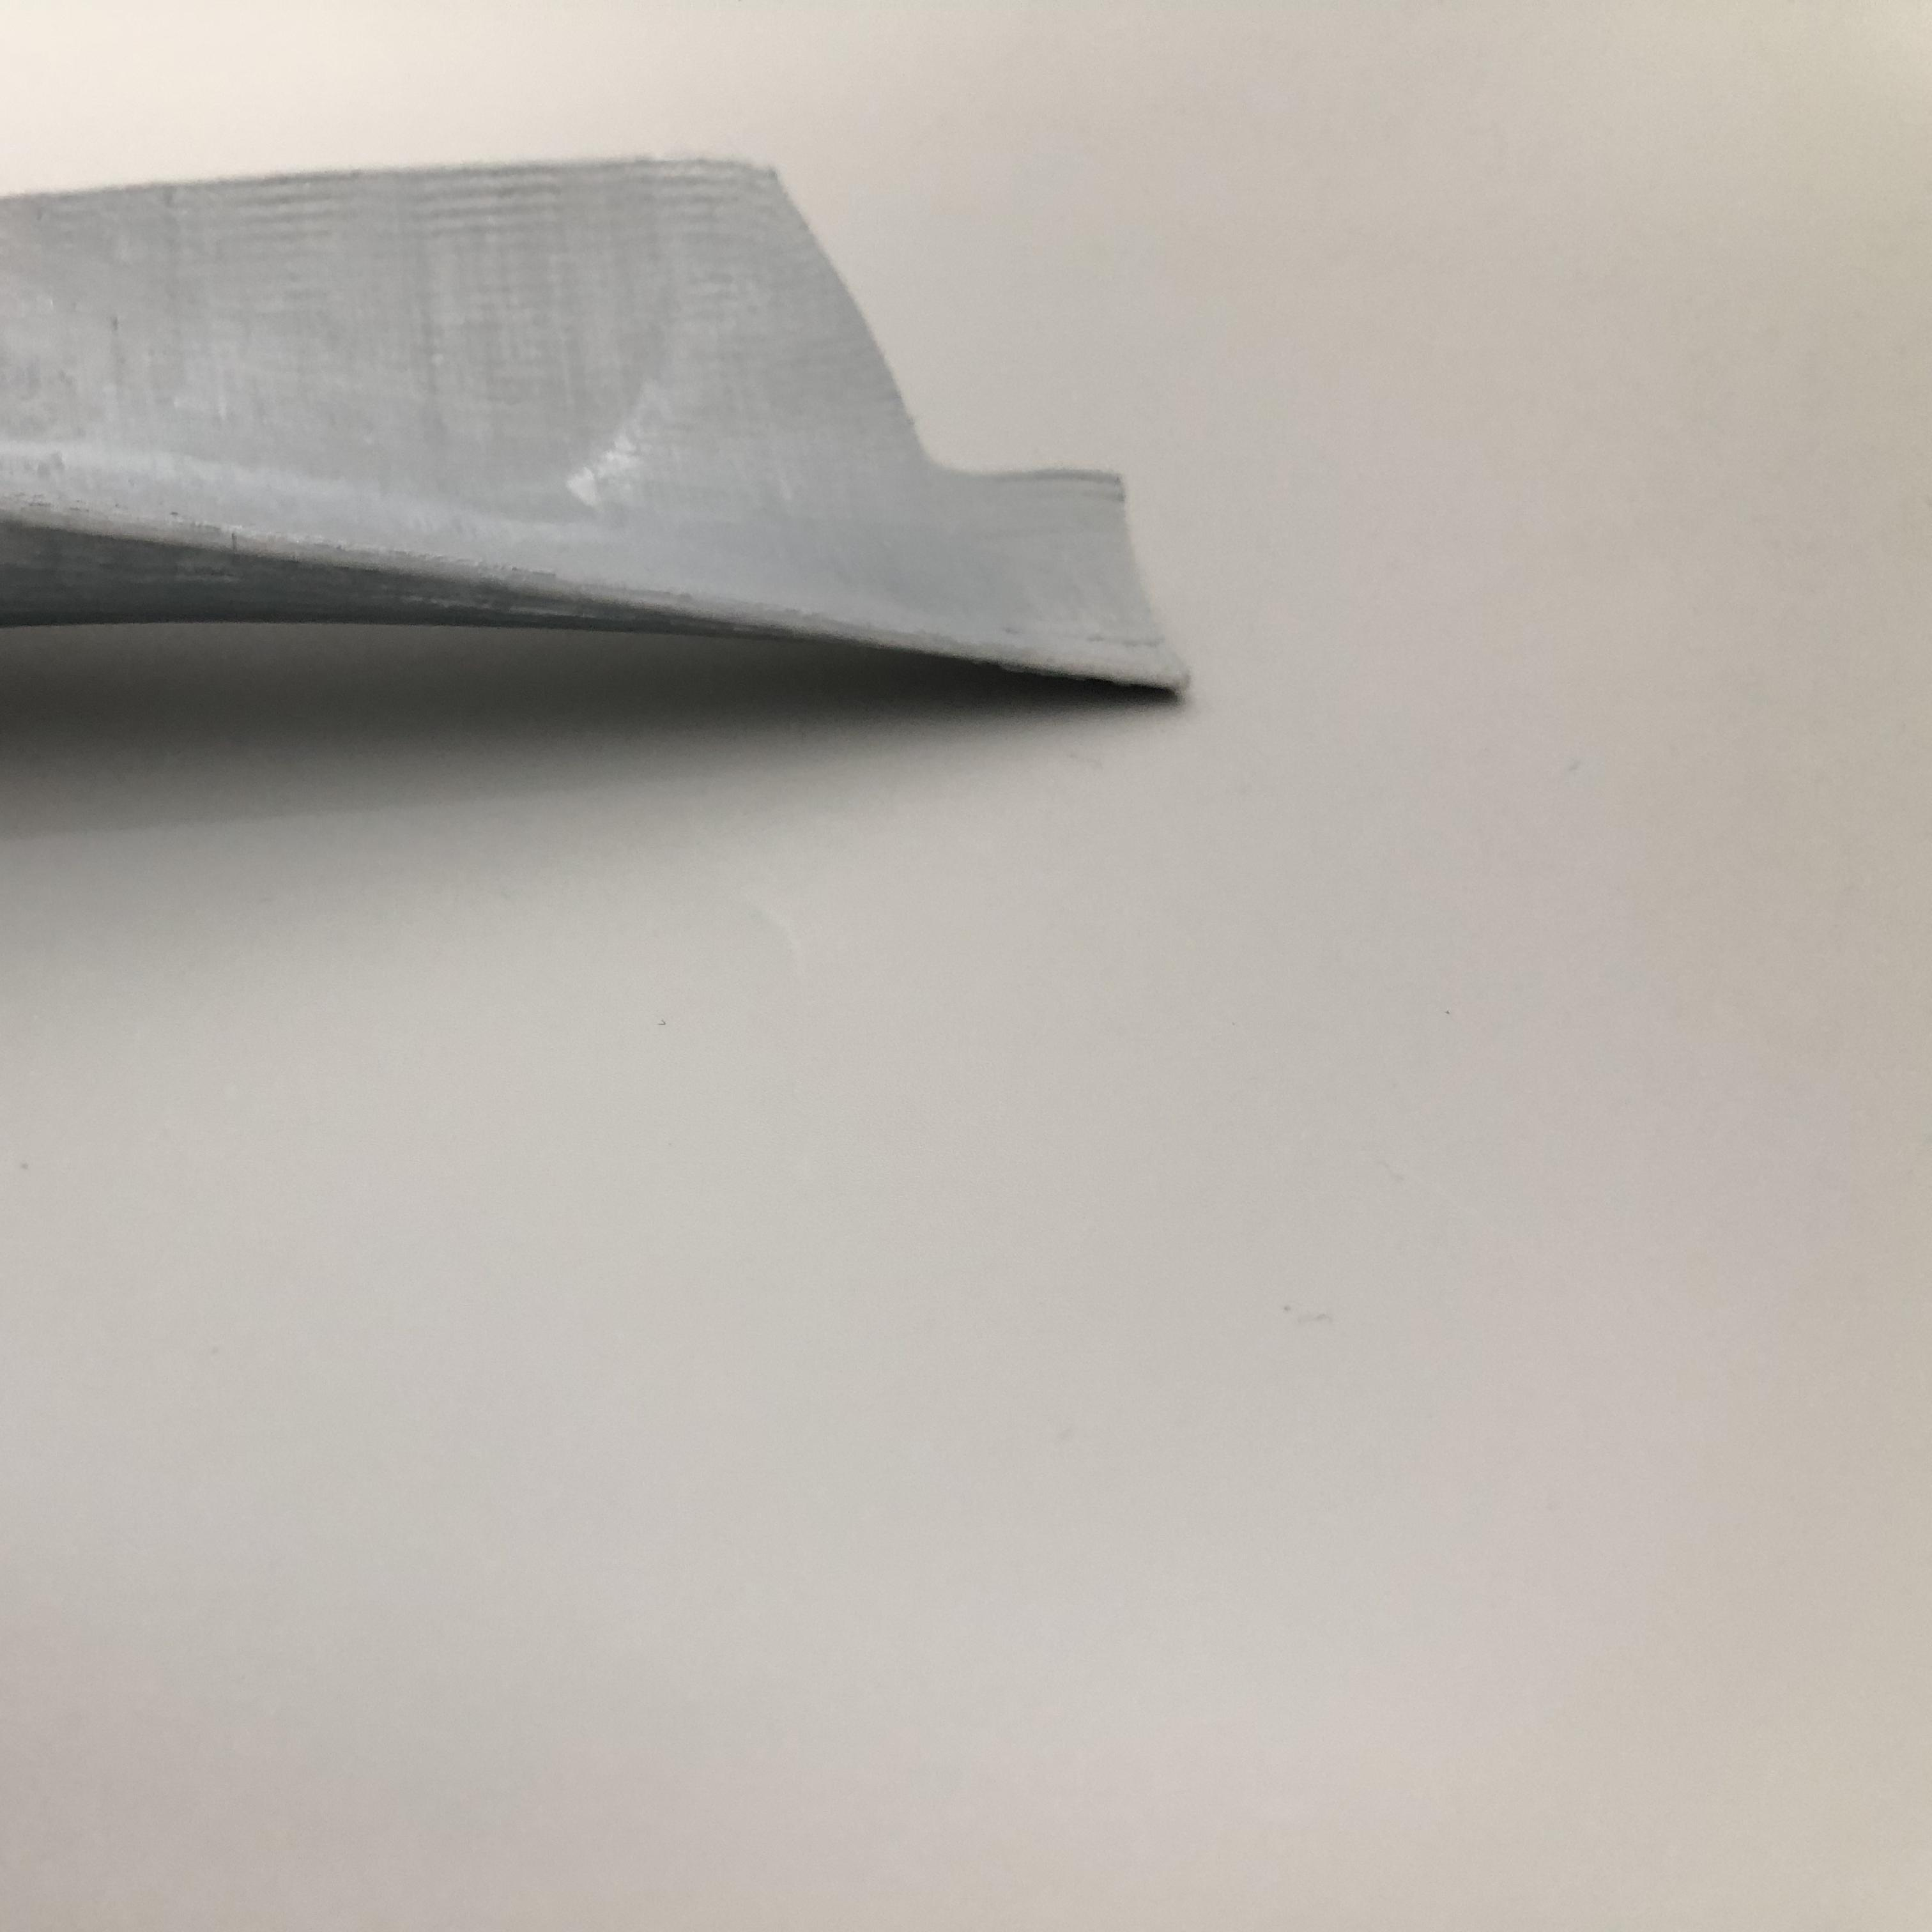fracture: (755, 157, 1115, 508)
